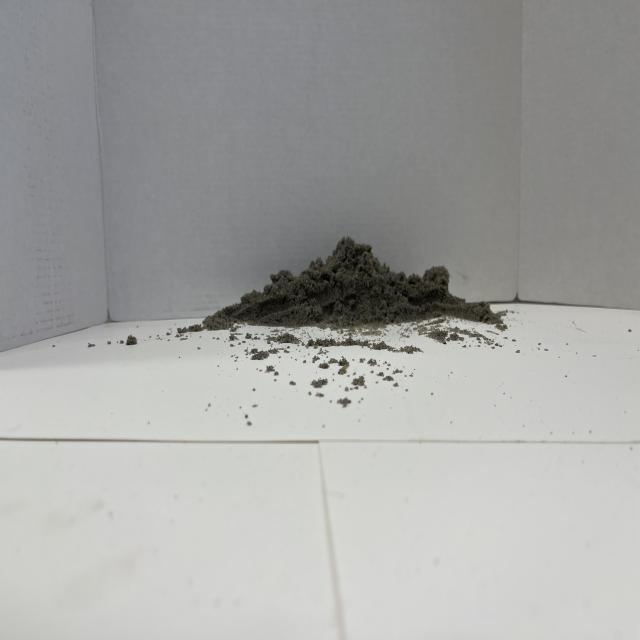sand: (219, 209, 479, 343)
